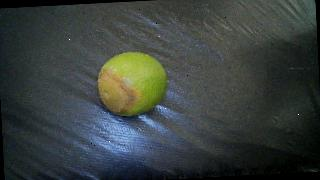DESECHO: (96, 50, 169, 118)
